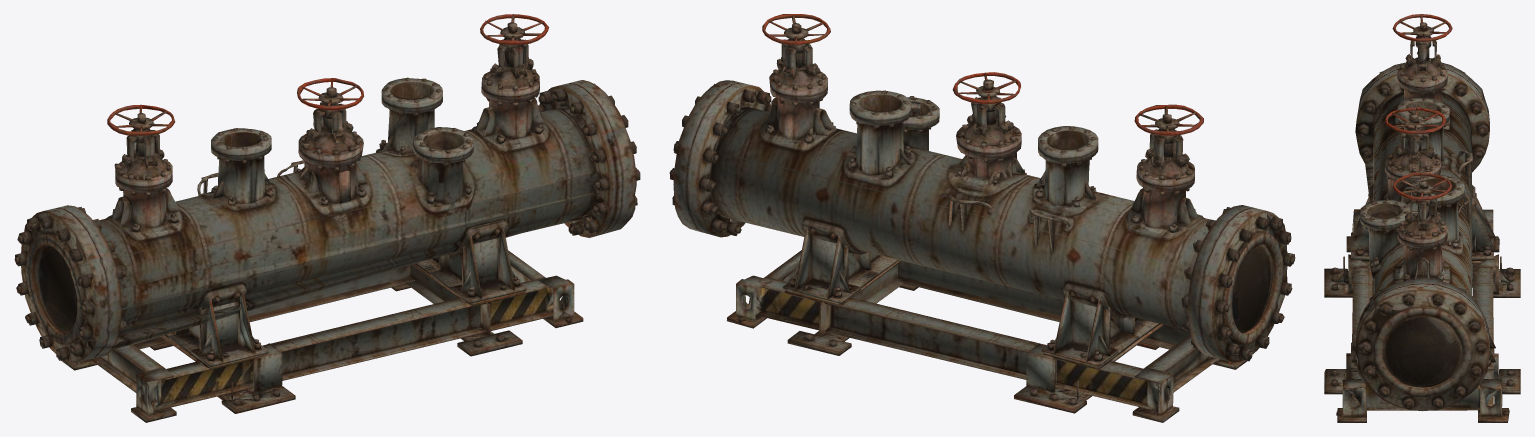
The model's file is reactor-coolant-manifold.glb.
3 views of the same model, side by side, from view 1: azimuth 30°, elevation 25°; view 2: azimuth 150°, elevation 25°; view 3: azimuth 270°, elevation 25° (orthographic). The views are drawn at different scales.
Visible parts, largest first — view 1: reactor-coolant-manifold; view 2: reactor-coolant-manifold; view 3: reactor-coolant-manifold.
Boxes of the visible parts, x1,y1,x2,y2 form: reactor-coolant-manifold: (14, 14, 640, 422); reactor-coolant-manifold: (669, 14, 1295, 422); reactor-coolant-manifold: (1324, 14, 1520, 422).
Bounding box in the file's own units: 4.5 × 2.06 × 1.58.
1 material, 1 textured.
